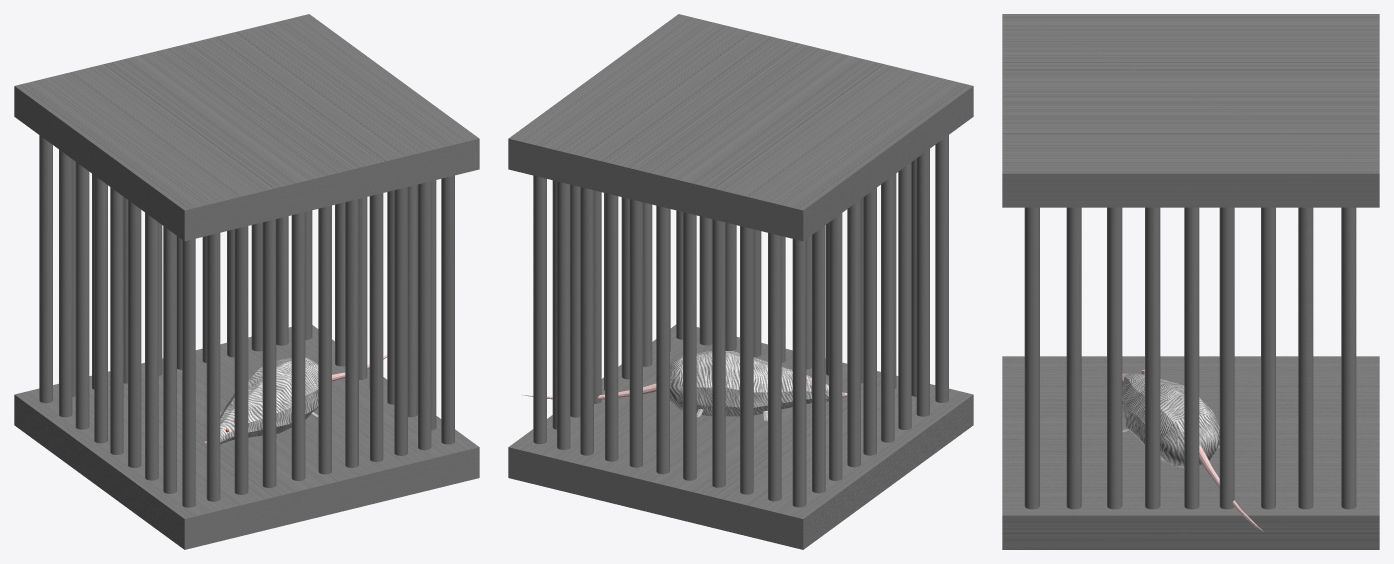
File: cagedRat1.fbx
3 views of the same model, side by side, from view 1: azimuth 30°, elevation 25°; view 2: azimuth 150°, elevation 25°; view 3: azimuth 270°, elevation 25° (orthographic). The views are drawn at different scales.
Parts seen in each view (by area): view 1: pCube3, labRat:polySurface12; view 2: pCube3, labRat:polySurface12; view 3: pCube3, labRat:polySurface12.
Part boxes in pixels (x1,y1,x2,y2): pCube3: (14,14,479,549); labRat:polySurface12: (204,355,387,444); pCube3: (508,14,973,549); labRat:polySurface12: (521,350,847,421); pCube3: (1002,14,1379,549); labRat:polySurface12: (1122,370,1263,531).
Size of the model in its own units: 56.94 by 55 by 50.
